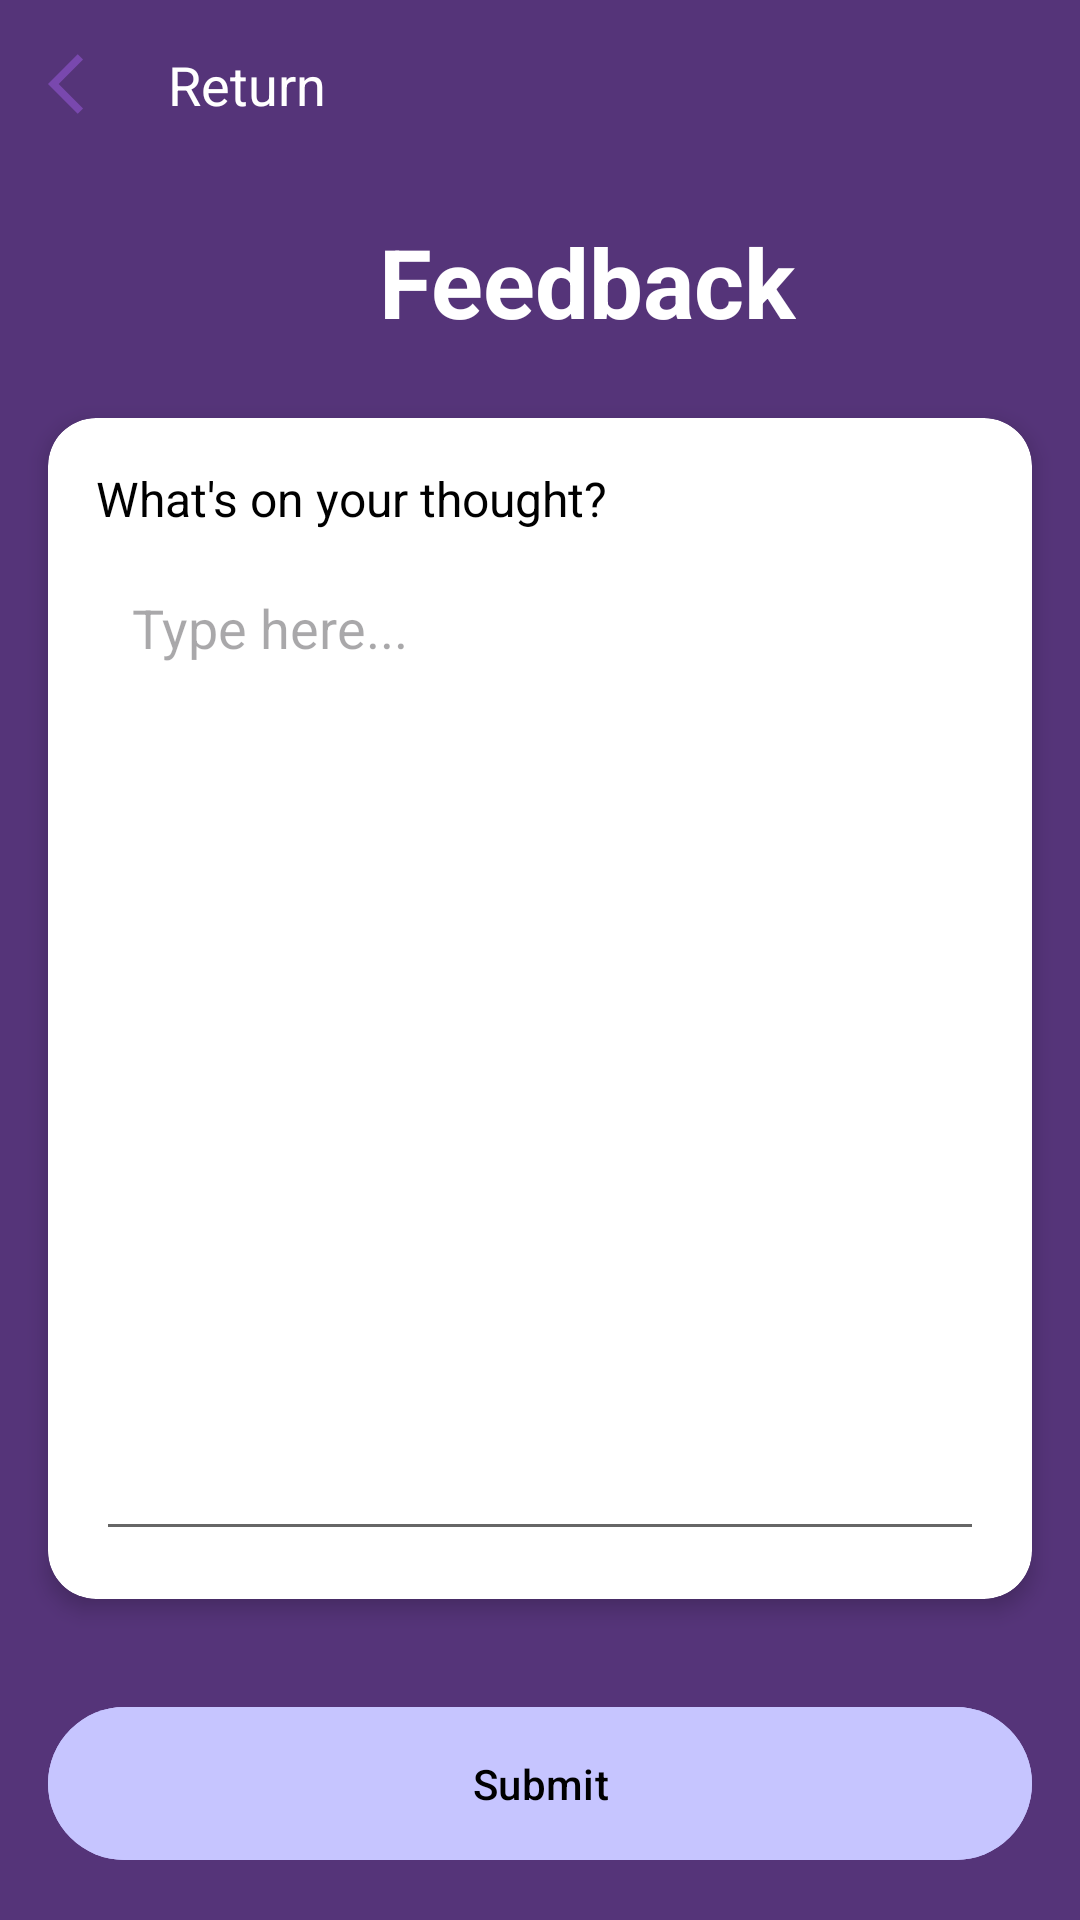

Icons on this 1080*1920 Android screen, each with the point to tap as (x,y):
Back: (65,84)
